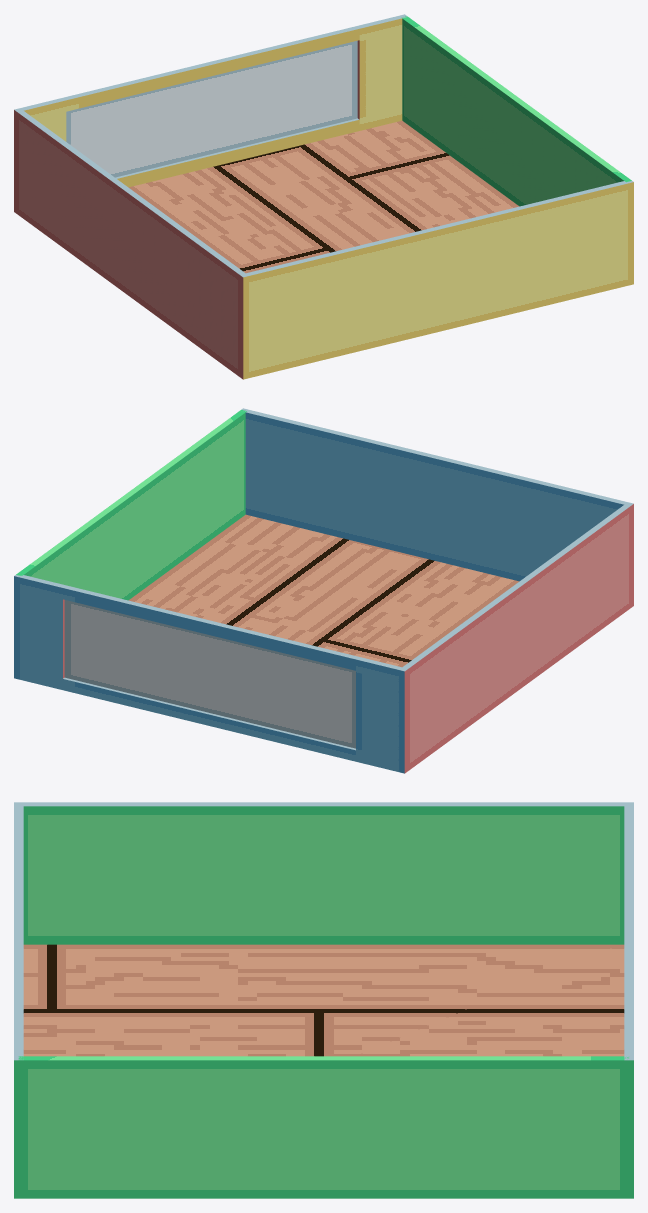
File: room-test.gltf
The picture shows the model from 3 angles, top to bottom: view 1: azimuth 30°, elevation 25°; view 2: azimuth 150°, elevation 25°; view 3: azimuth 270°, elevation 25°; orthographic projection. The views are drawn at different scales.
Parts seen in each view (by area): view 1: mesh, floor, wall, window, wall2, wall_window; view 2: mesh, floor, wall, window, wall_window, wall2; view 3: wall2, wall, floor, wall_window, mesh.
Boxes of the visible parts, x1,y1,x2,y2 form: mesh: [239, 181, 633, 379]; floor: [128, 120, 519, 273]; wall: [15, 111, 246, 377]; window: [66, 40, 357, 177]; wall2: [401, 16, 631, 206]; wall_window: [14, 14, 407, 214]; mesh: [241, 408, 633, 608]; floor: [128, 514, 519, 667]; wall: [402, 505, 630, 770]; window: [64, 600, 355, 748]; wall_window: [14, 575, 408, 773]; wall2: [16, 409, 246, 600]; wall2: [18, 1056, 629, 1198]; wall: [18, 802, 628, 944]; floor: [23, 944, 624, 1056]; wall_window: [624, 802, 633, 1198]; mesh: [14, 802, 23, 1198].
Size of the model in its own units: 2 by 0.5 by 2.03.
5 materials, 5 textured.
